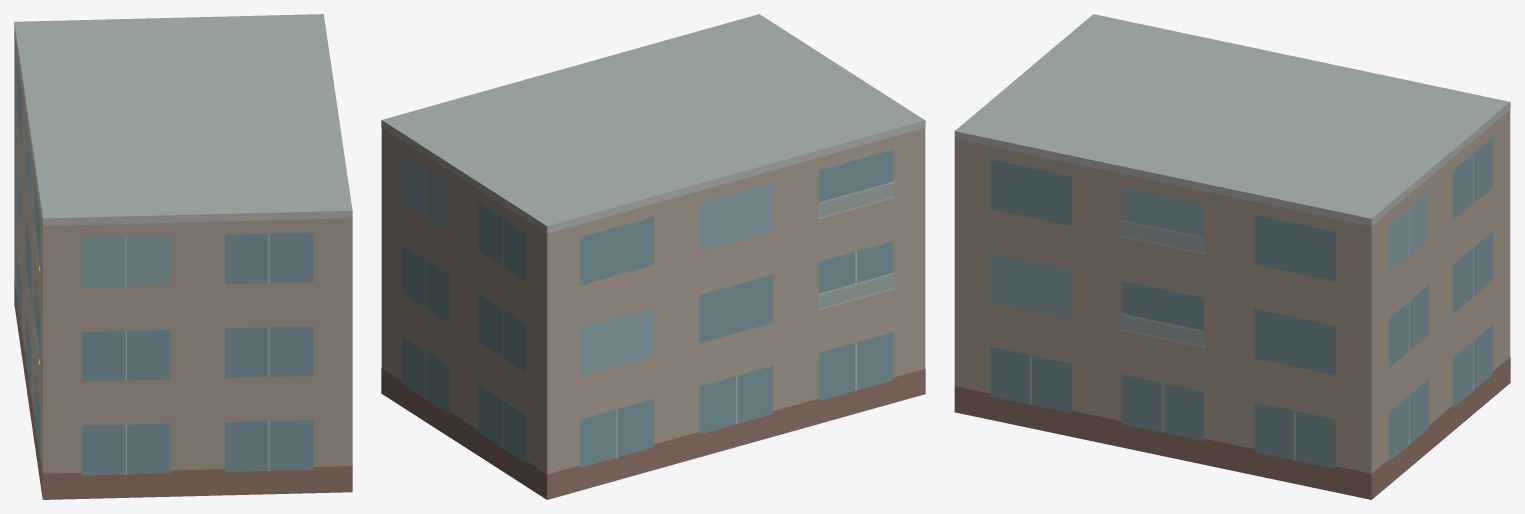
The model's file is survey-upis-32816560.glb.
The picture shows the model from 3 angles, left to right: view 1: azimuth 30°, elevation 25°; view 2: azimuth 150°, elevation 25°; view 3: azimuth 270°, elevation 25°; orthographic projection. The views are drawn at different scales.
Visible parts, largest first — view 1: survey-upis-32816560.tmp; view 2: survey-upis-32816560.tmp; view 3: survey-upis-32816560.tmp.
Boxes of the visible parts, x1,y1,x2,y2 form: survey-upis-32816560.tmp: (14,14,352,499); survey-upis-32816560.tmp: (381,14,925,499); survey-upis-32816560.tmp: (954,14,1510,499).
Bounding box in the file's own units: 14.31 × 9.15 × 16.41.
